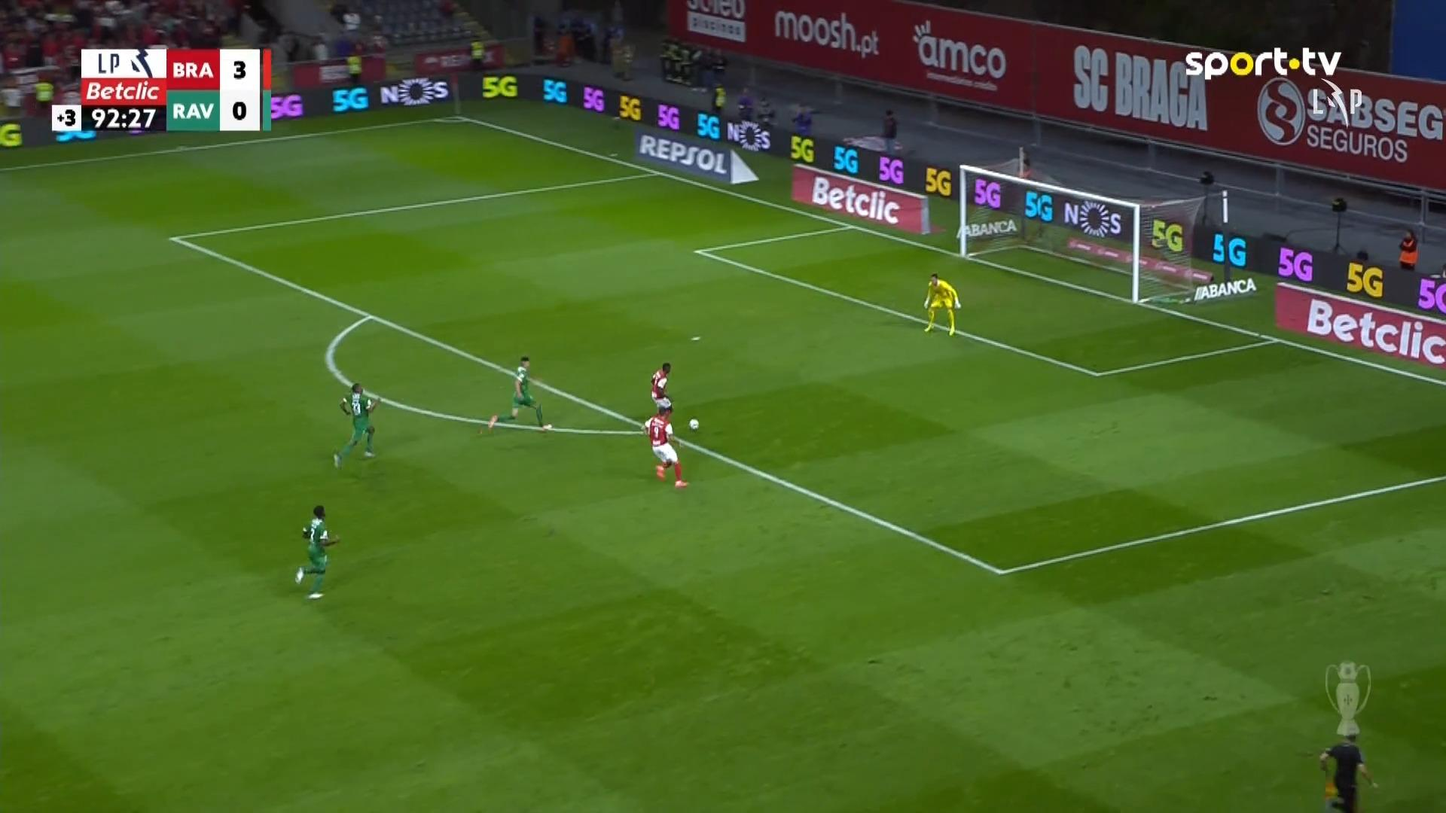ball: (688, 418, 698, 430)
goalkeeper: (922, 272, 961, 336)
player: (485, 355, 552, 432), (294, 504, 340, 599), (643, 398, 689, 488), (332, 382, 379, 469), (649, 361, 673, 416)
referee: (1318, 719, 1378, 811)
